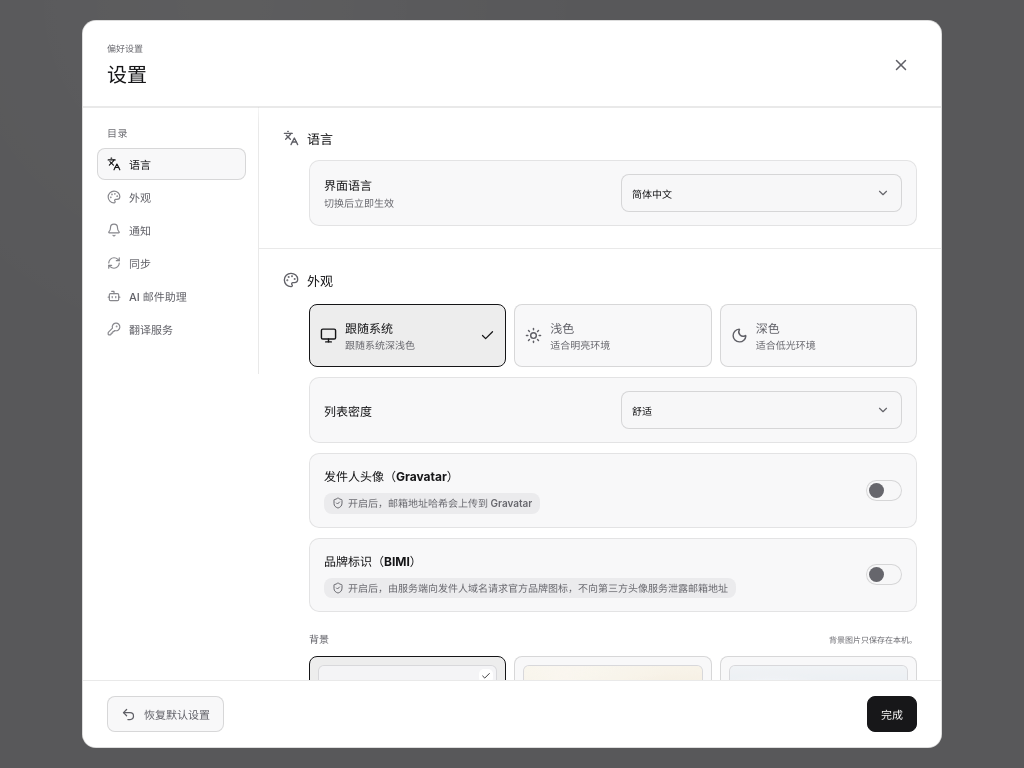
Scenario: settings language picker interaction › clicking the English option publishes a locale change
This screenshot has width=1024, height=768.
What coordinates should you click on to do the following:
click the dropdown with id "interface-language"
I would click on:
 (652, 194)
Its box is top-left (621, 174), bottom-right (902, 212).
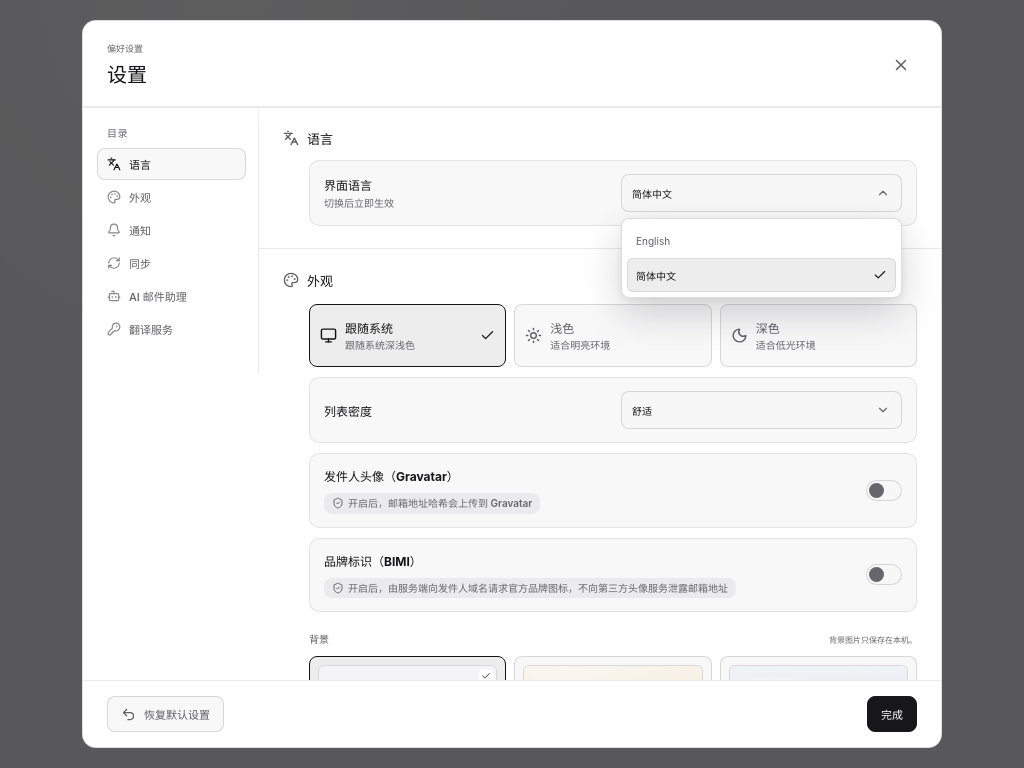
Expected: the list is shown, top-left (621, 218), bottom-right (902, 298)
Expected: the option "English" is shown
What coordinates should you click on to do the following:
click the option "English"
I would click on:
 (653, 241)
Its box is top-left (636, 235), bottom-right (670, 247).
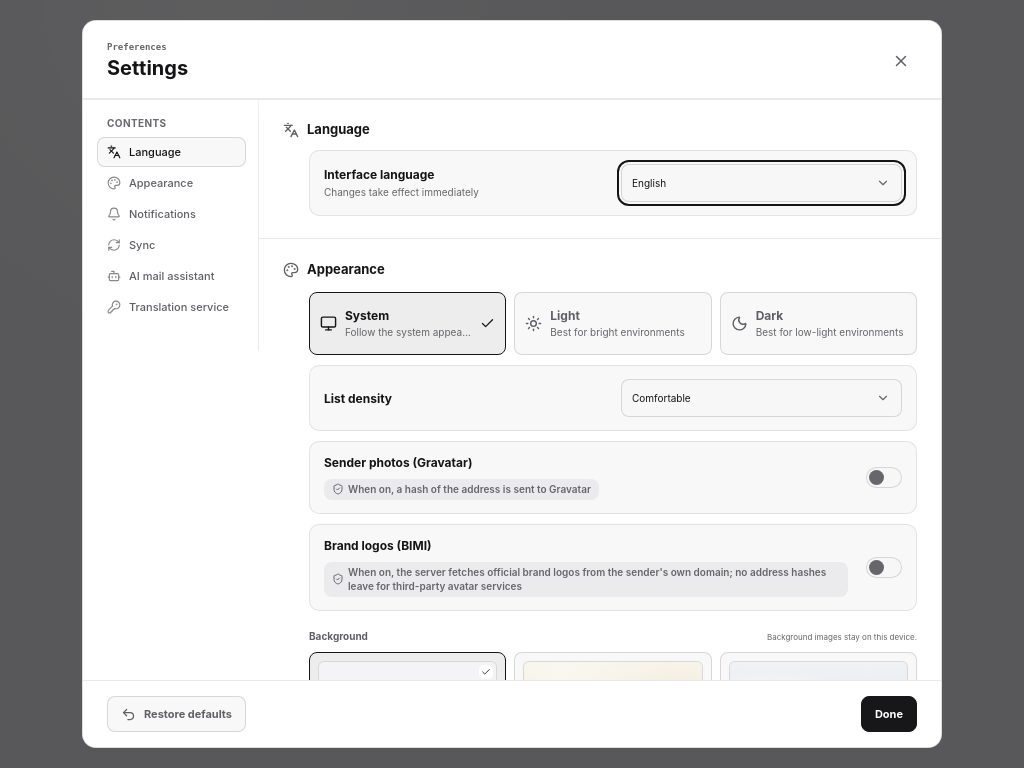
Expected: the dropdown with id "interface-language" reads "English", top-left (621, 164), bottom-right (902, 202)
